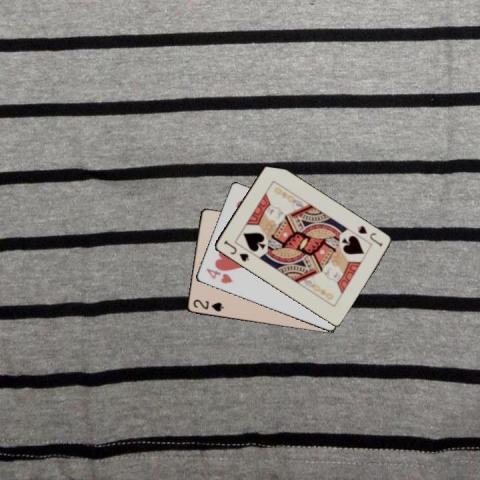2s: (190, 297, 225, 313)
4h: (203, 265, 234, 285)
Js: (220, 237, 251, 264), (354, 223, 384, 248)
